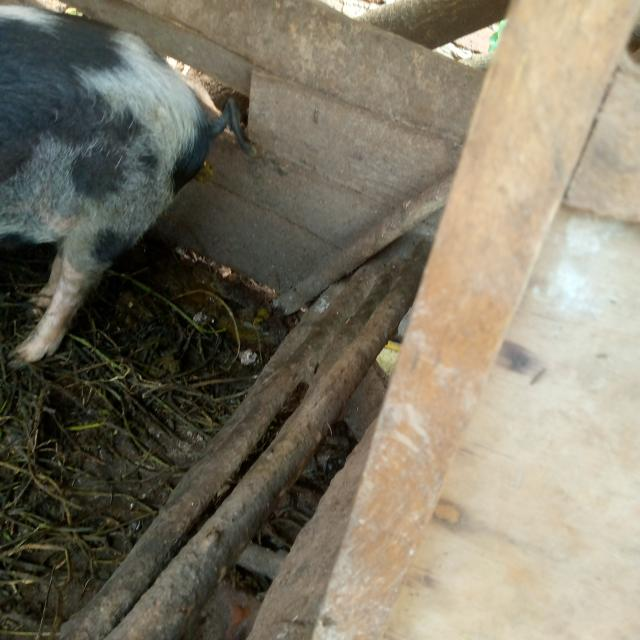pig: (0, 0, 306, 407)
